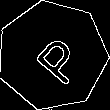P_NW: (21, 25, 84, 86)
